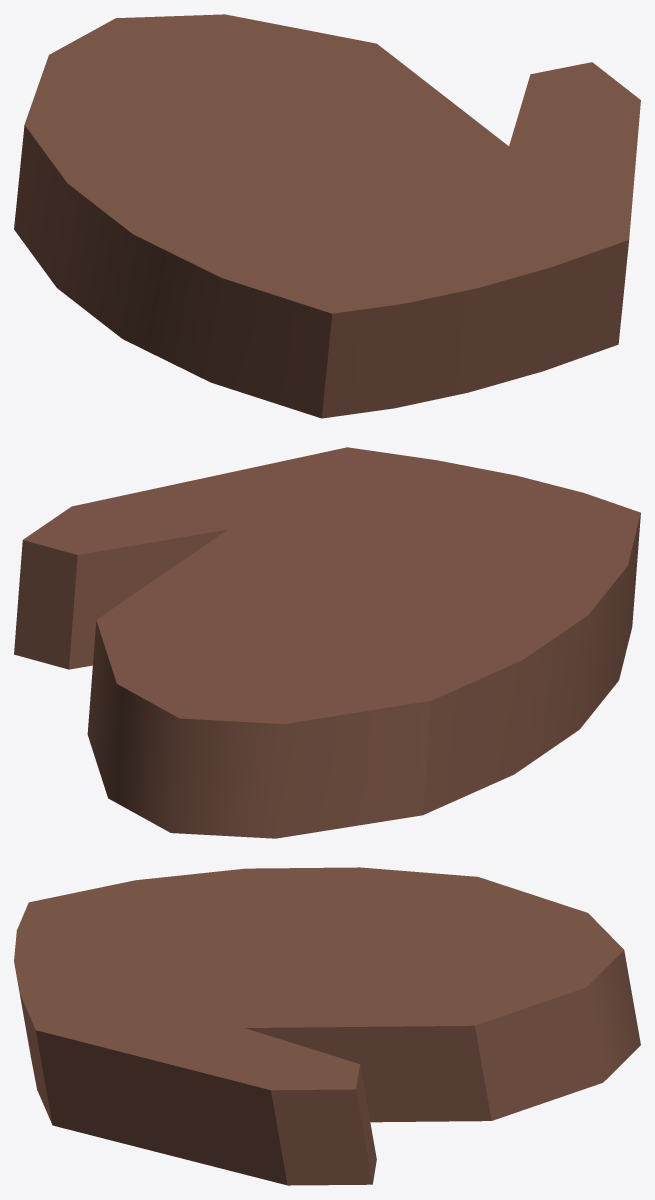
Rendered from Hand.fbx.
3 views of the same model, one above another, from view 1: azimuth 30°, elevation 25°; view 2: azimuth 150°, elevation 25°; view 3: azimuth 270°, elevation 25° (orthographic). The views are drawn at different scales.
Parts seen in each view (by area): view 1: 006; view 2: 006; view 3: 006.
Boxes of the visible parts, x1,y1,x2,y2 form: 006: (14,14,640,418); 006: (14,447,640,838); 006: (14,867,640,1185).
Bounding box in the file's own units: 9.35 × 2.1 × 11.32.
